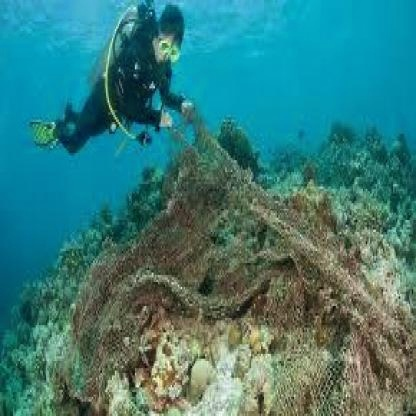net: (83, 167, 409, 416)
